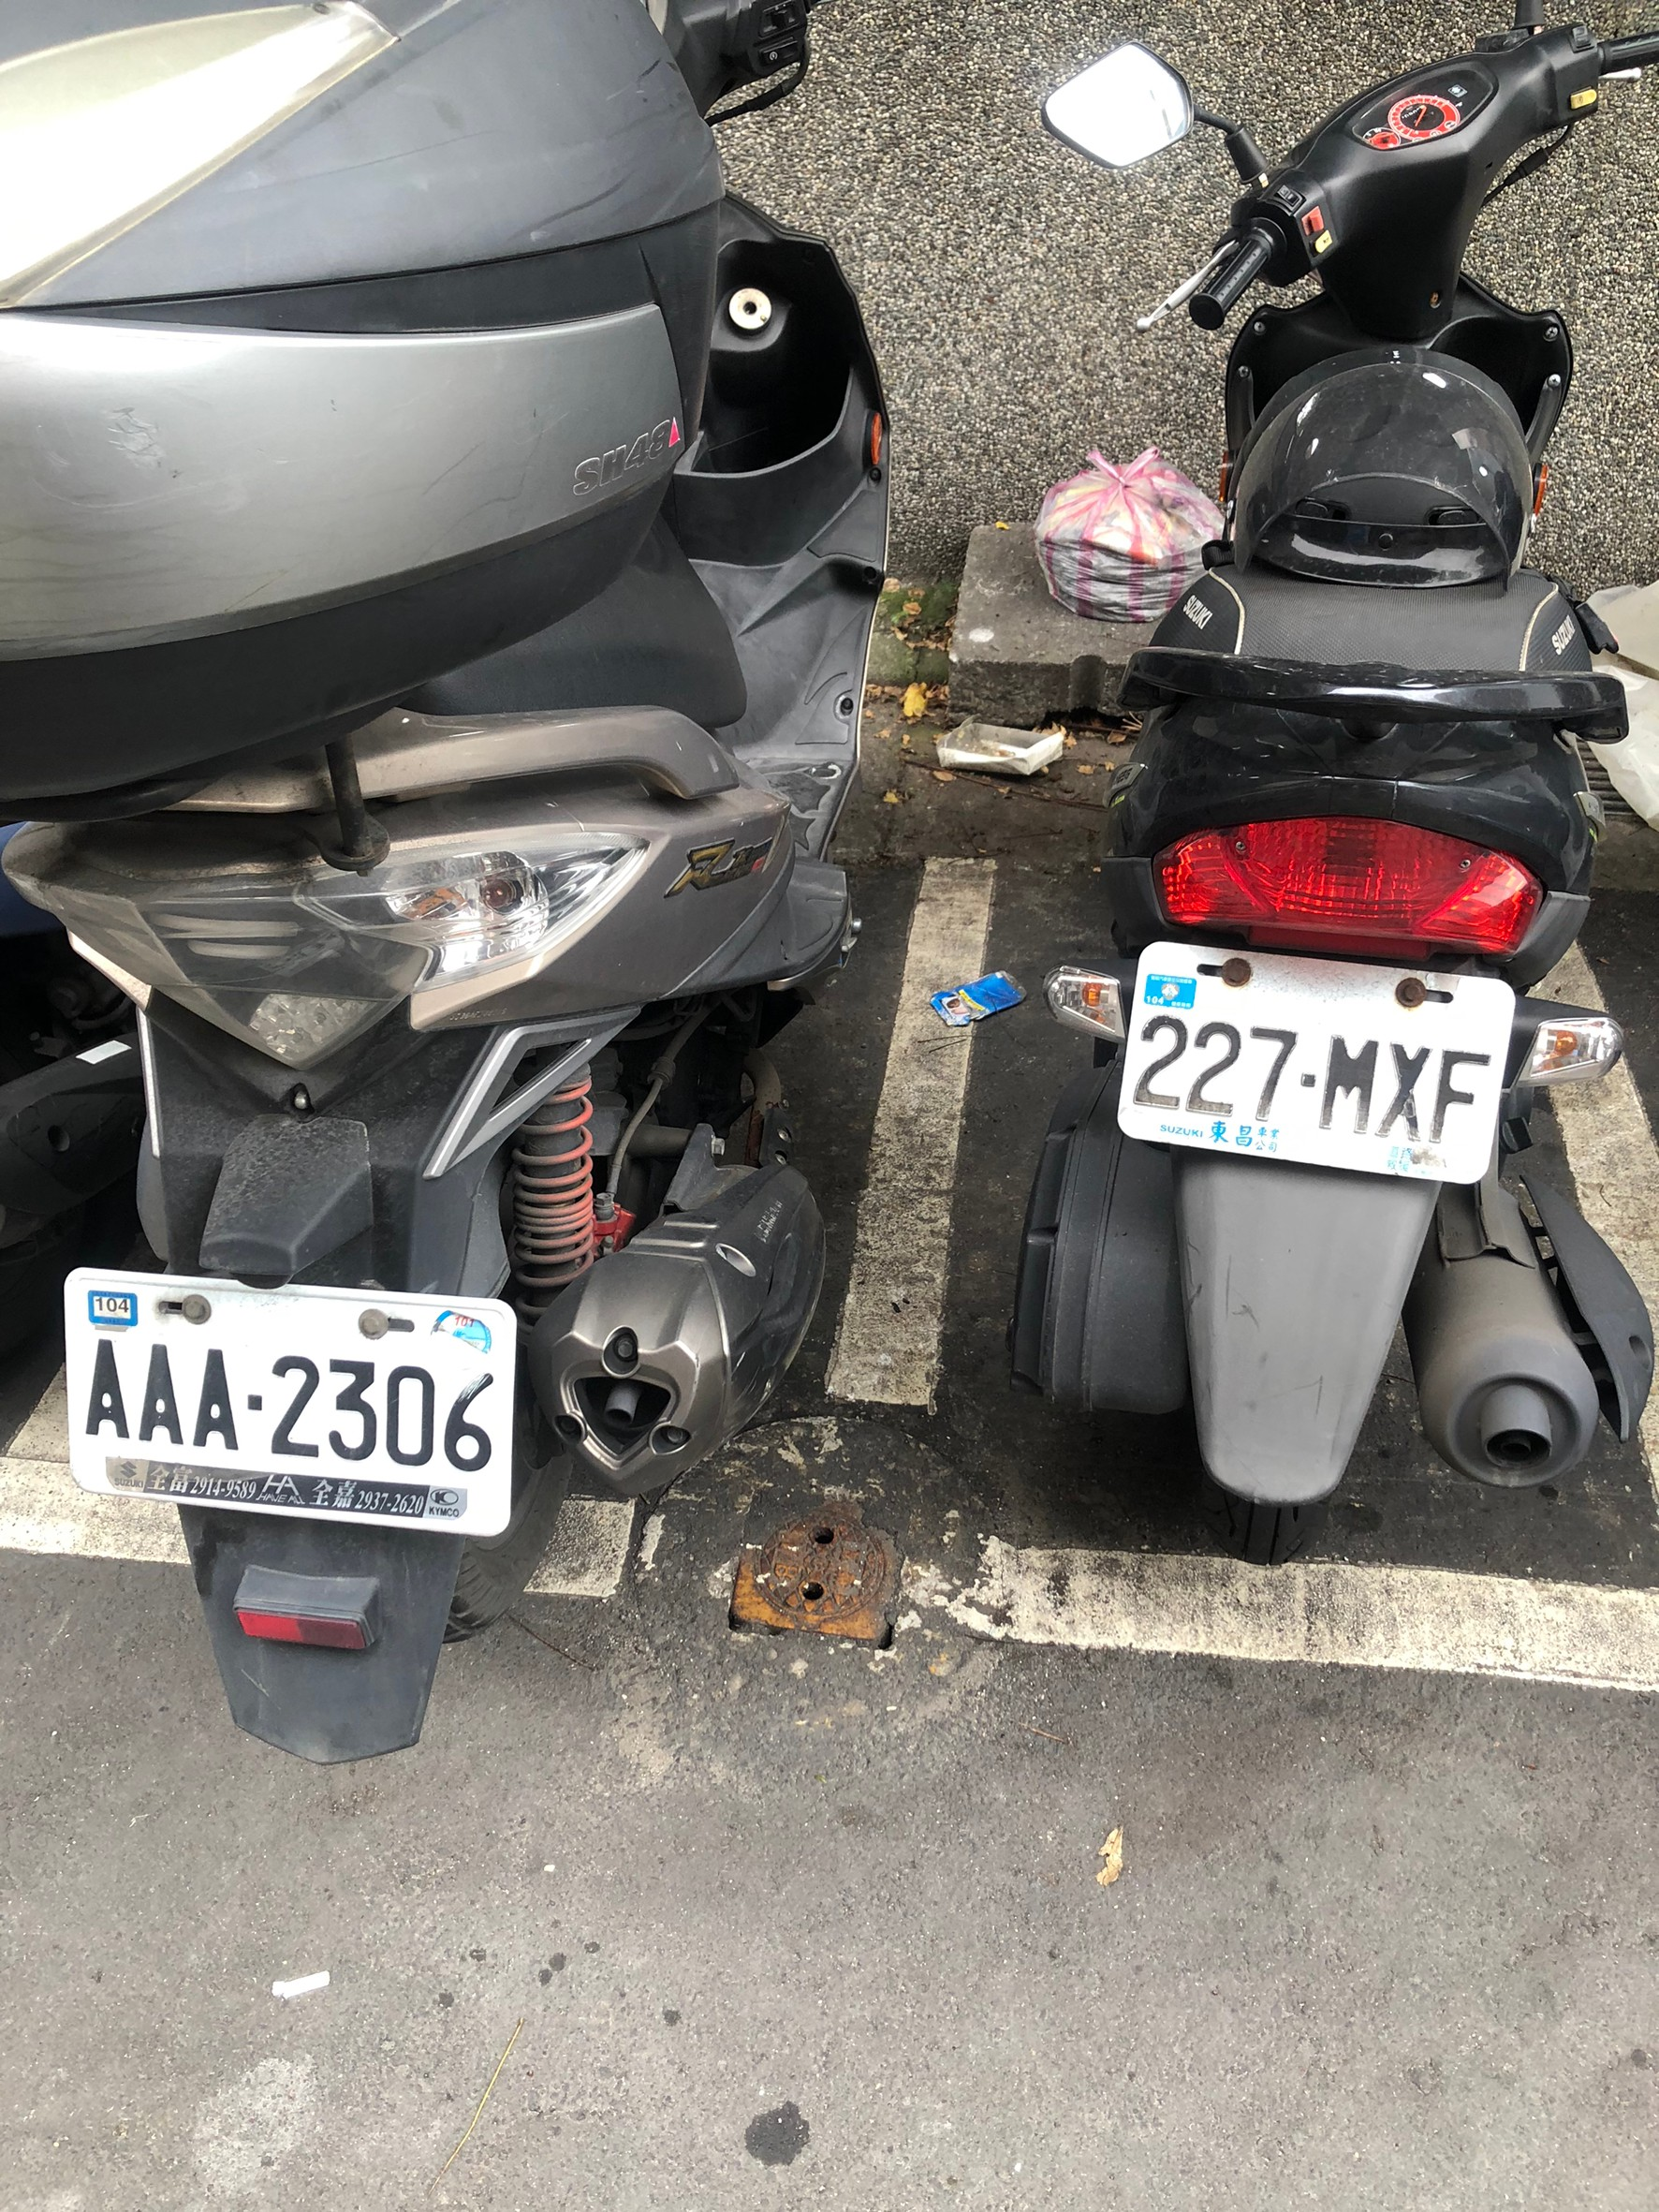LP: (64, 1253, 519, 1543), (1119, 945, 1504, 1163)
